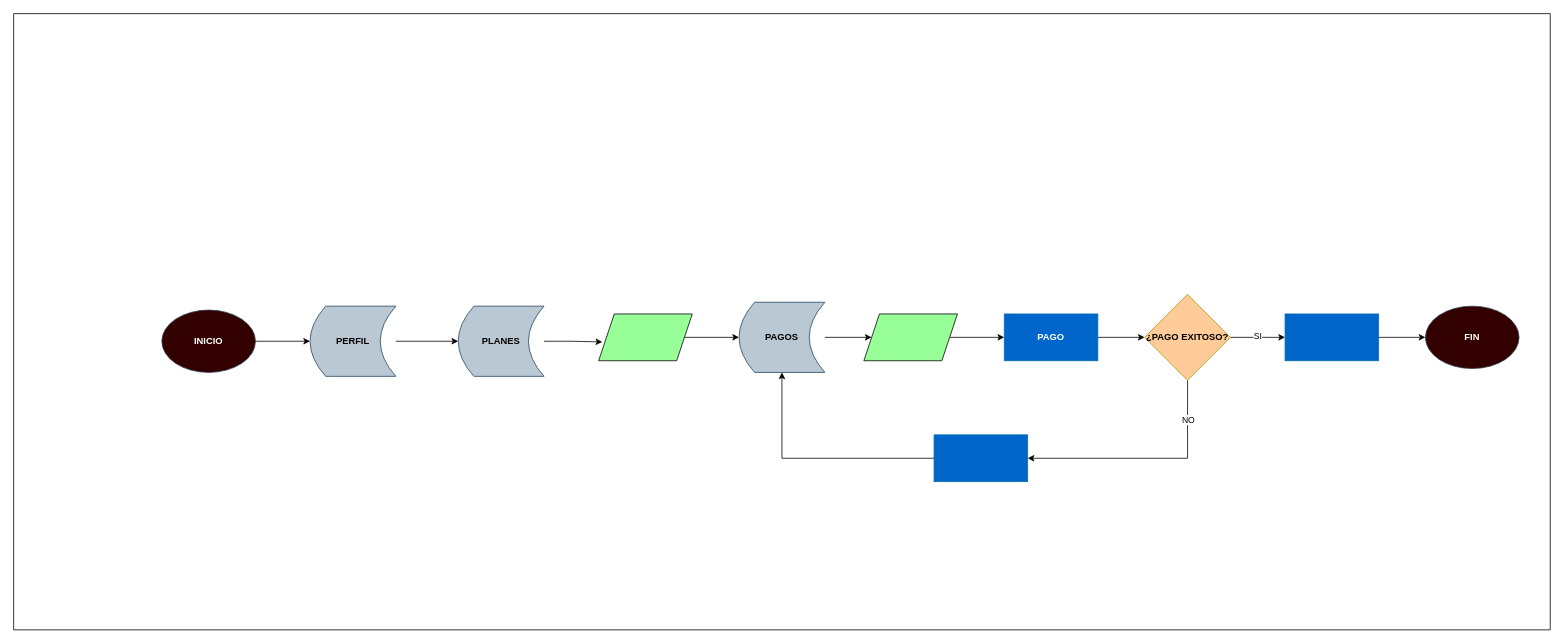
The diagram is 1564 pixels wide and 644 high, and some of its shapes have lost their labels. Here are the shapes that lost their labels. From the top down, the centre of each, then its label:
point 645,337: MEJORAR PLAN
point 910,337: INGRESO TARJETA
point 1331,337: MEJORA PLAN
point 980,458: PAGO RECHAZADO
